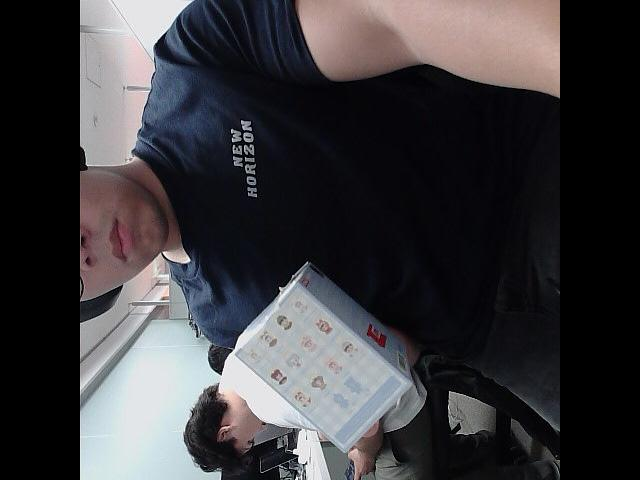Blind_box: (235, 265, 411, 451)
